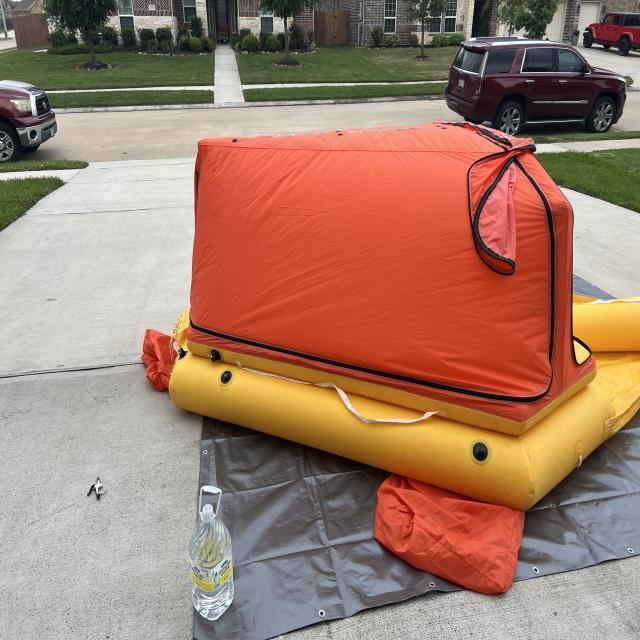Multi-person_life_raft: (140, 122, 640, 595)
